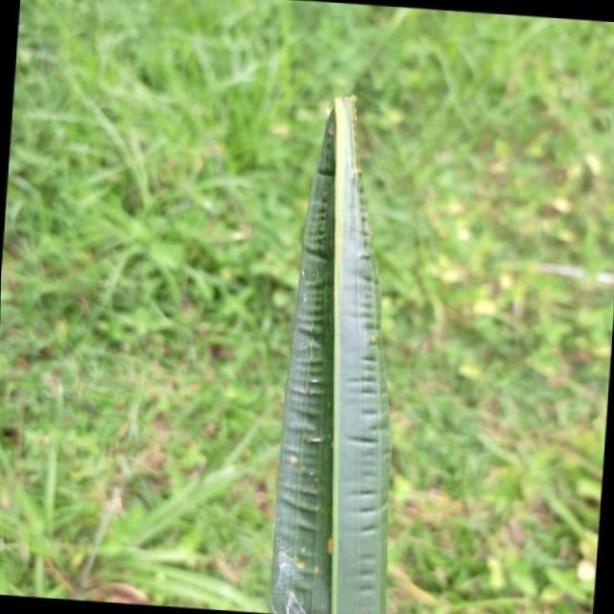Boron: (272, 78, 388, 614)
